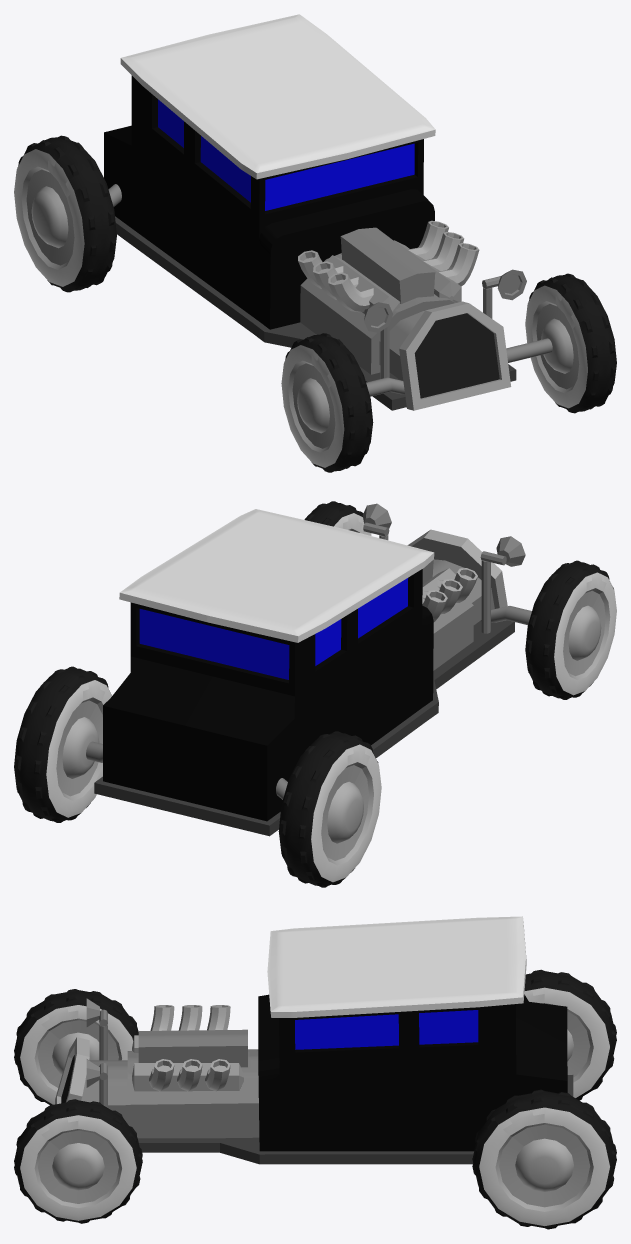
Rendered from hot_rod.fbx.
3 views of the same model, one above another, from view 1: azimuth 30°, elevation 25°; view 2: azimuth 150°, elevation 25°; view 3: azimuth 270°, elevation 25° (orthographic). The views are drawn at different scales.
Parts seen in each view (by area): view 1: Engine, Back-Right, Front-Right, Front-Left, Front-Axle; view 2: Engine, Back-Right, Back-Left, Front-Right, Front-Left, Front-Axle; view 3: Engine, Back-Left, Front-Left, Front-Right, Back-Right.
Boxes of the visible parts, x1,y1,x2,y2 form: Engine: (104, 14, 526, 410); Back-Right: (14, 135, 116, 292); Front-Right: (281, 333, 373, 472); Front-Left: (525, 273, 616, 413); Front-Axle: (366, 338, 552, 396); Engine: (94, 503, 525, 836); Back-Right: (278, 731, 381, 887); Back-Left: (14, 666, 111, 822); Front-Right: (525, 560, 616, 699); Front-Left: (304, 501, 371, 535); Front-Axle: (480, 606, 531, 625); Engine: (55, 916, 573, 1164); Back-Left: (472, 1089, 616, 1229); Front-Left: (14, 1099, 142, 1223); Front-Right: (14, 989, 138, 1104); Back-Right: (524, 969, 616, 1100).
Bounding box in the file's own units: 313 × 216 × 562.
